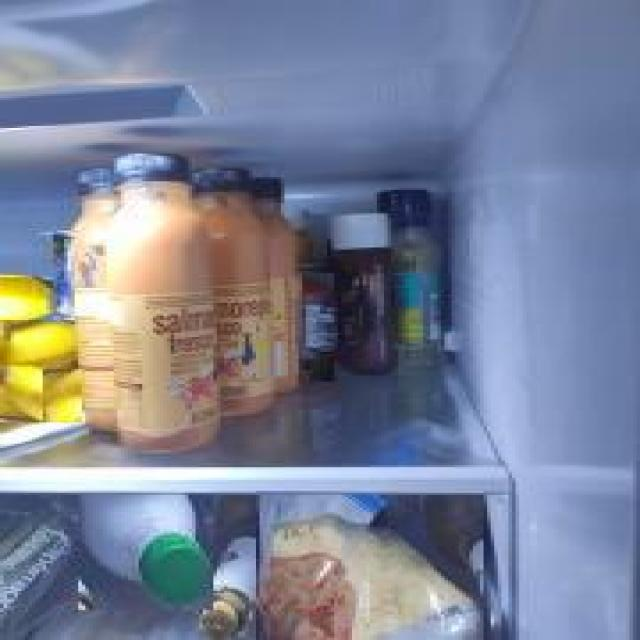banana: (0, 367, 82, 422), (2, 325, 73, 366), (0, 365, 43, 422), (0, 277, 53, 319)
grated_cheese: (256, 490, 483, 640)
milk: (78, 491, 214, 610)
tomato_sauce: (300, 273, 336, 382)
yogurt: (53, 232, 75, 318)
